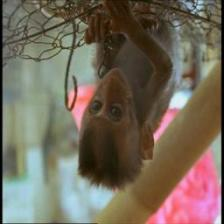monkey: (60, 61, 163, 196)
